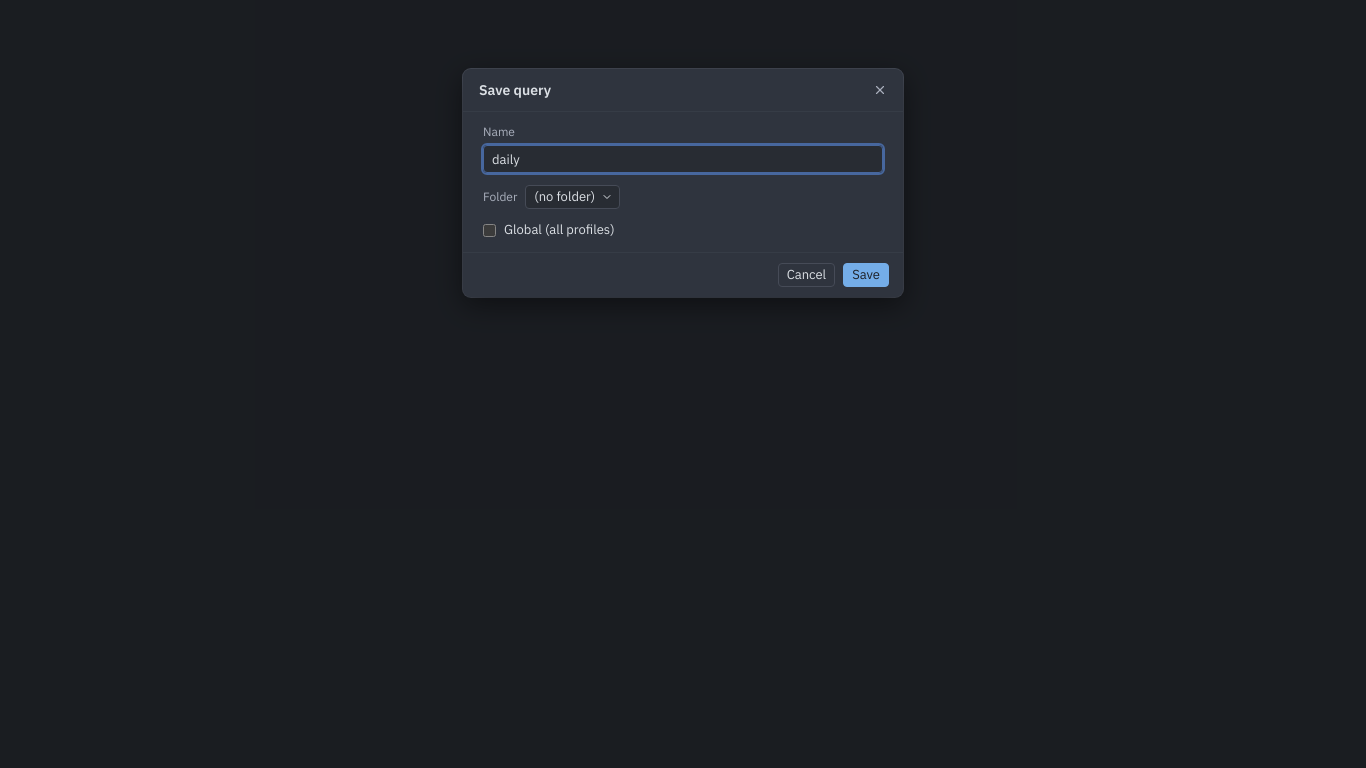
Scenario: SaveQueryDialog › folder picker inserts the folder prefix and keeps the last segment
Click the button "(no folder)". click: click(573, 197)
box: x1=525 y1=185 x2=620 y2=209
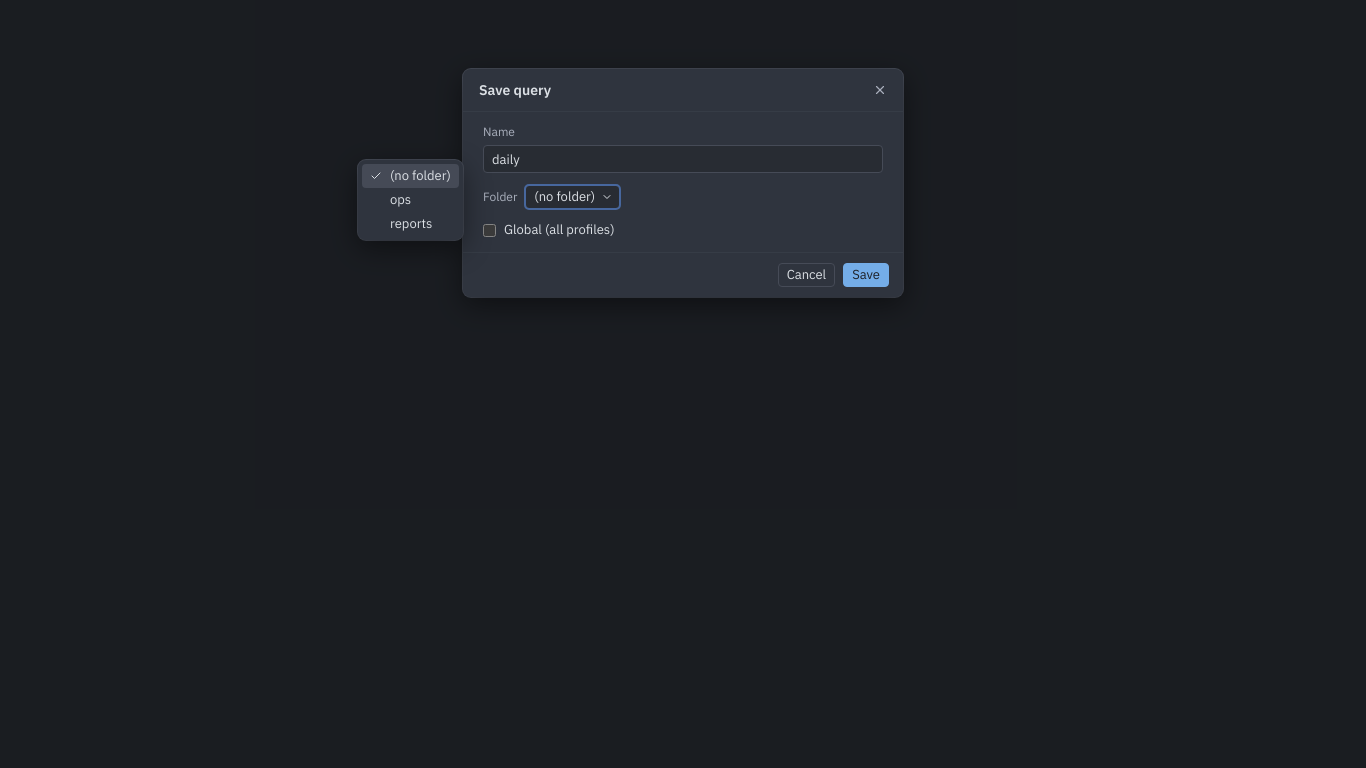
Check: the options read "(no folder)", "ops", "reports", in this order
Click the option "reports". click: click(411, 223)
box: x1=390 y1=215 x2=432 y2=232
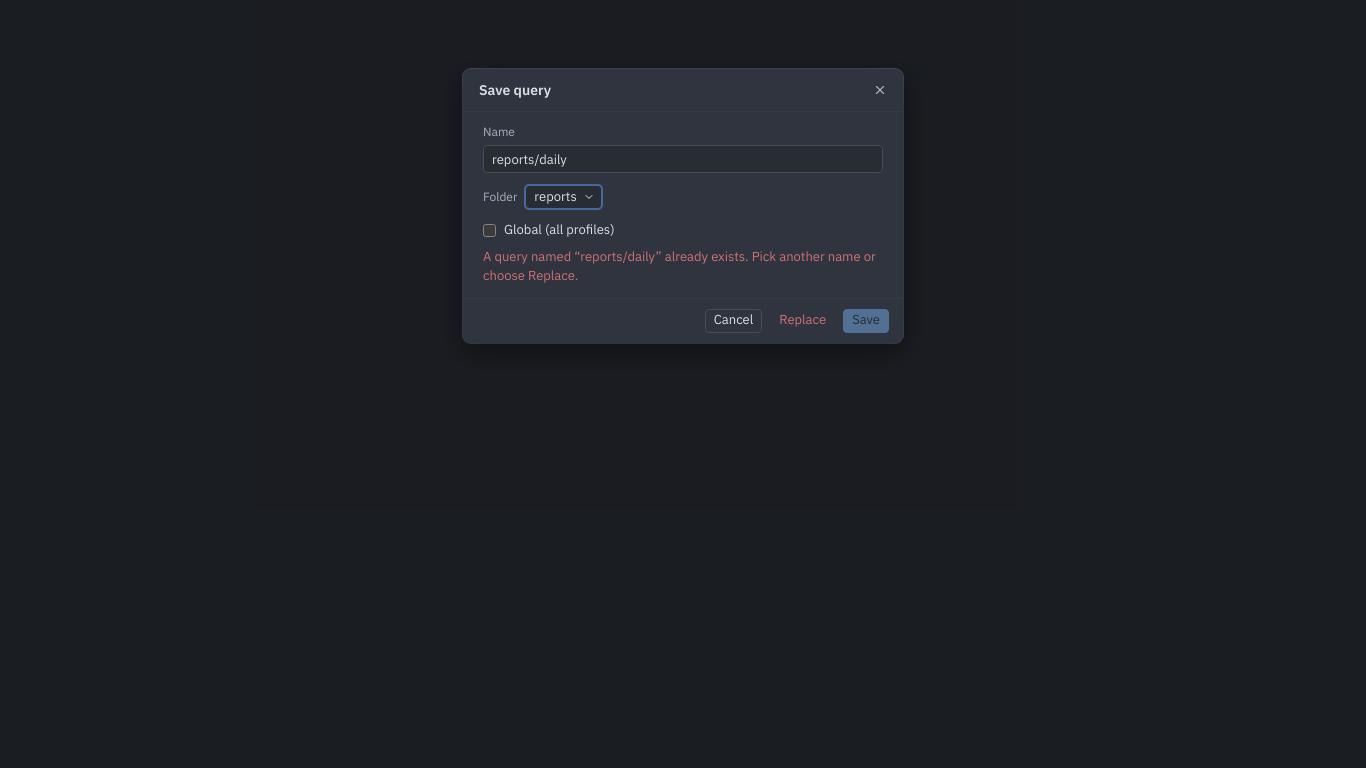
Check: the field labelled "Name" holds "reports/daily", box x1=483 y1=145 x2=883 y2=173
Click the button with aria-label "Folder". click: click(564, 197)
box: x1=525 y1=185 x2=602 y2=209
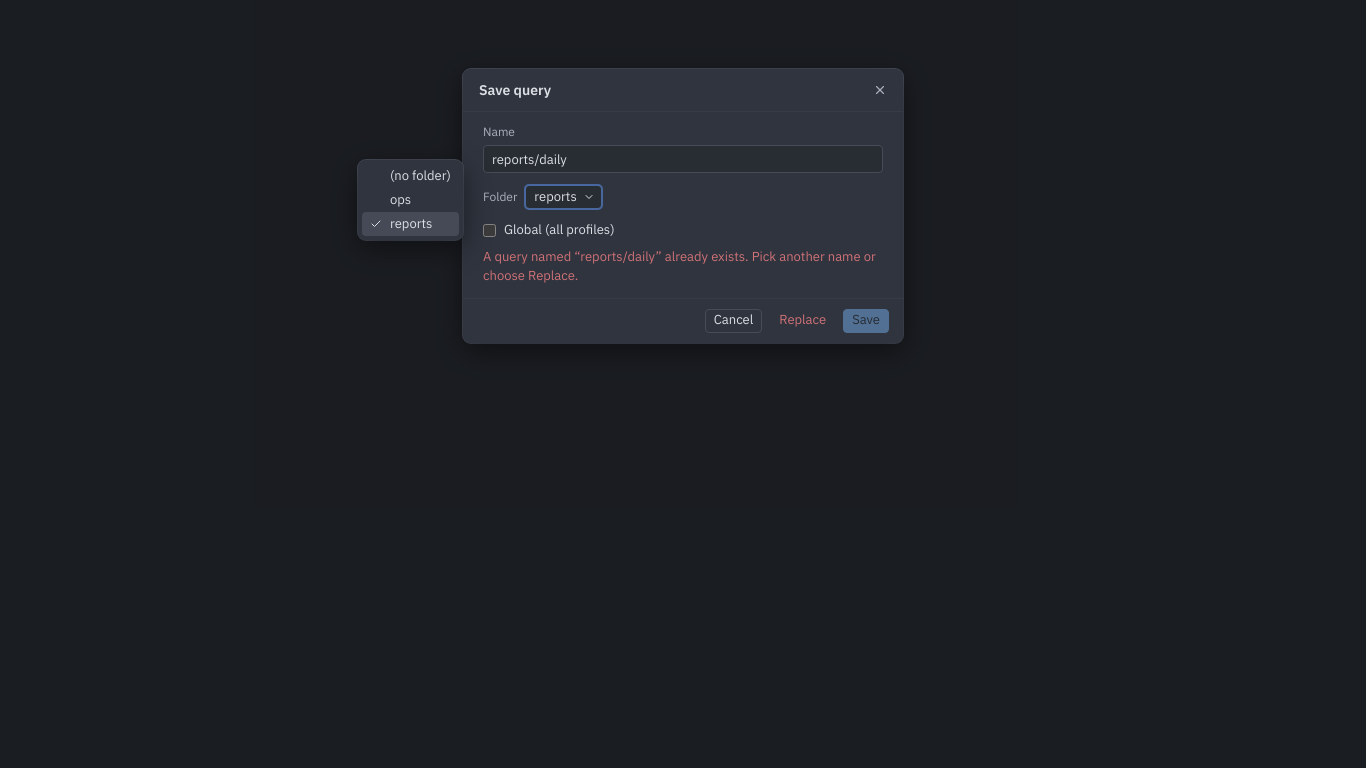
Click the option "(no folder)". click: click(420, 175)
box: x1=390 y1=167 x2=451 y2=184
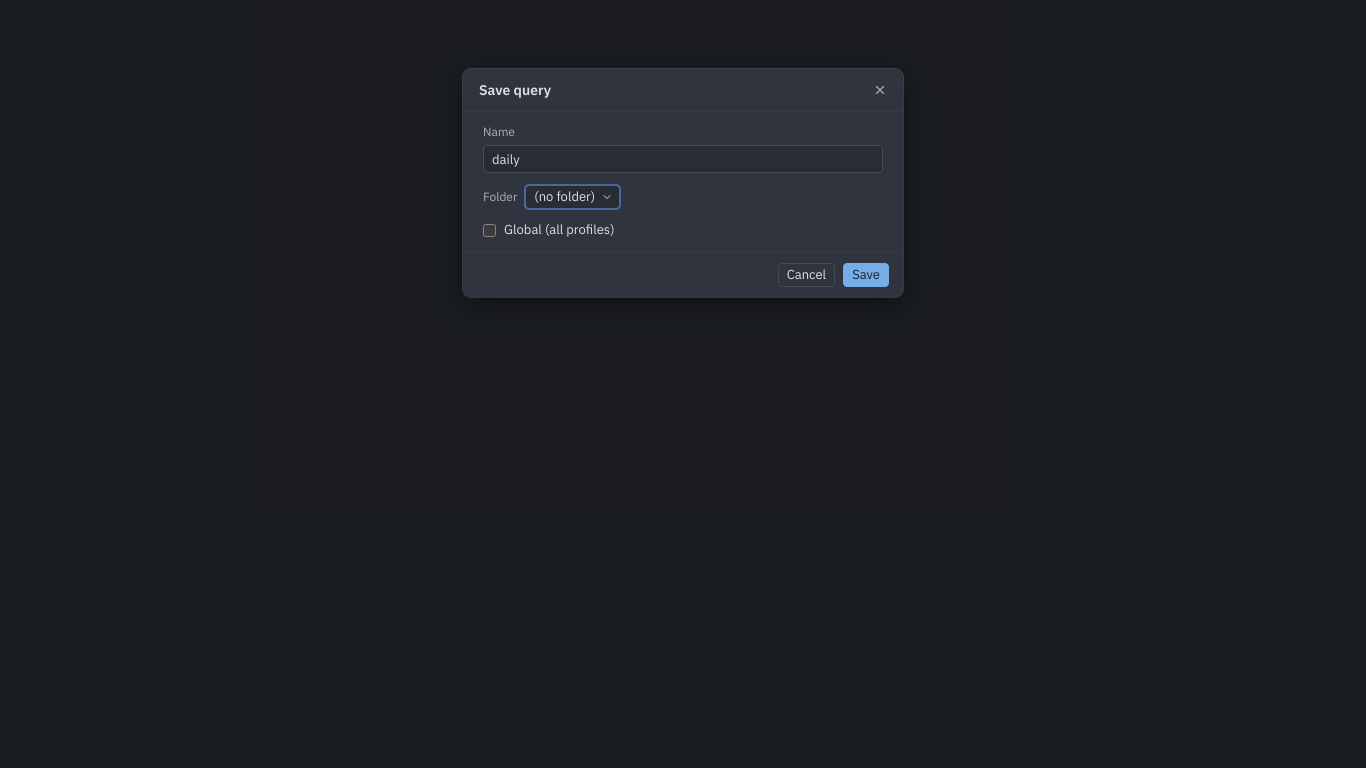
Check: the field labelled "Name" holds "daily", box x1=483 y1=145 x2=883 y2=173
